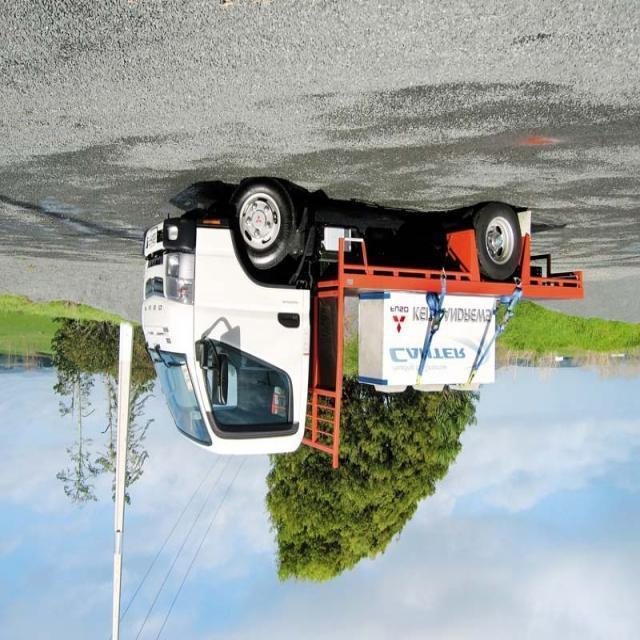Truck: (137, 176, 584, 475)
